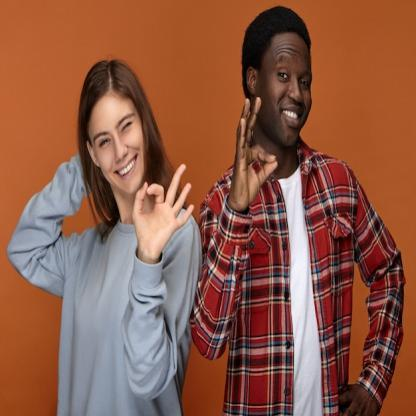ok: (130, 159, 196, 260), (231, 94, 278, 214)
